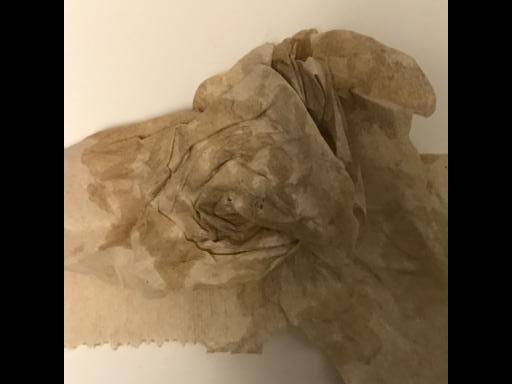trash: (74, 29, 443, 384)
